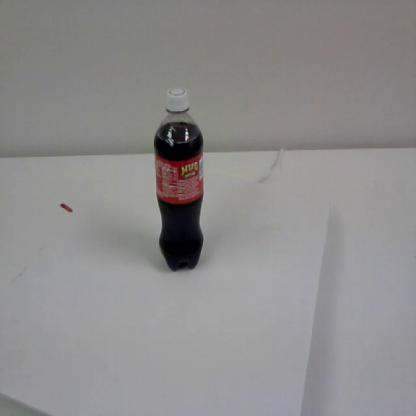bottle: (153, 85, 205, 273)
